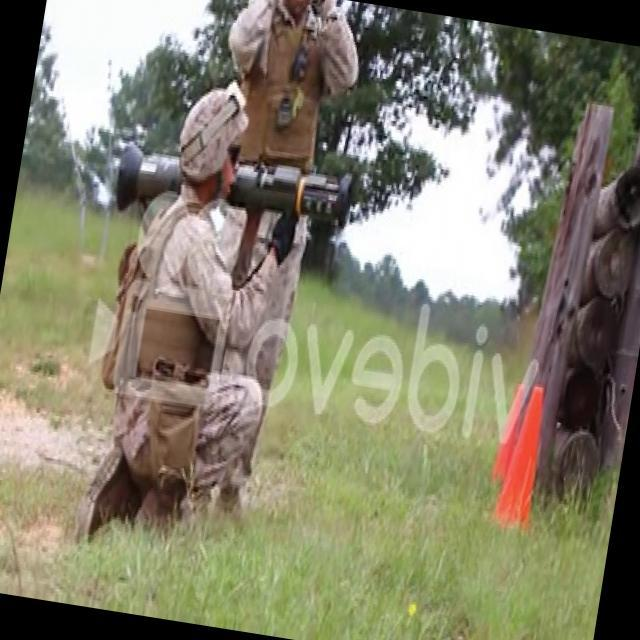rocket: (115, 138, 357, 240)
